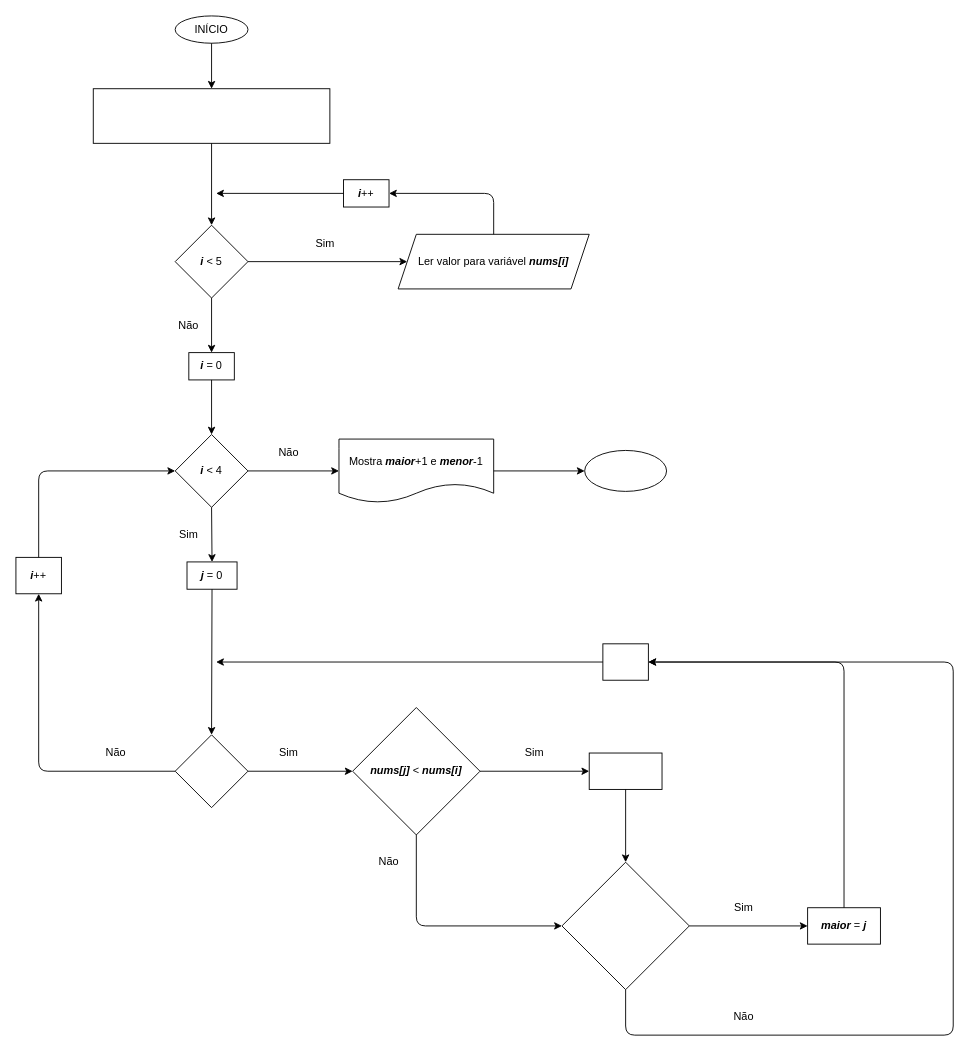
Some shapes in this 976 by 1058 pixel diagram are drawn without their labels. The centre of each missing label's shape, as x and y in pixels:
FIM: the point at 625,470
inteiro nums[5] , i =0, j =0, maior =0, menor =0: the point at 211,115
j ++: the point at 625,661
j < 5: the point at 211,771
menor = j: the point at 625,770
nums[j] > nums[i]: the point at 625,925
